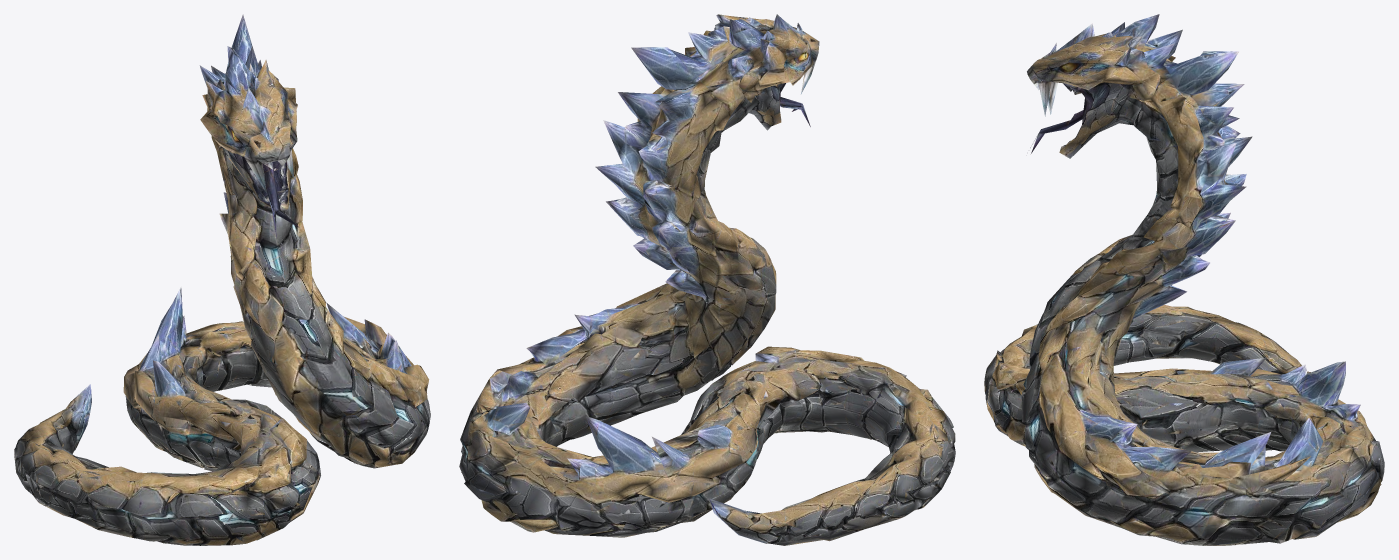
The model's file is enemy-silicon-fused-viper.glb.
3 renders of one model, left to right at view 1: azimuth 30°, elevation 25°; view 2: azimuth 150°, elevation 25°; view 3: azimuth 270°, elevation 25°, orthographic. The views are drawn at different scales.
Size of the model in its own units: 1.82 by 1.89 by 1.56.
1 material, 1 textured.
